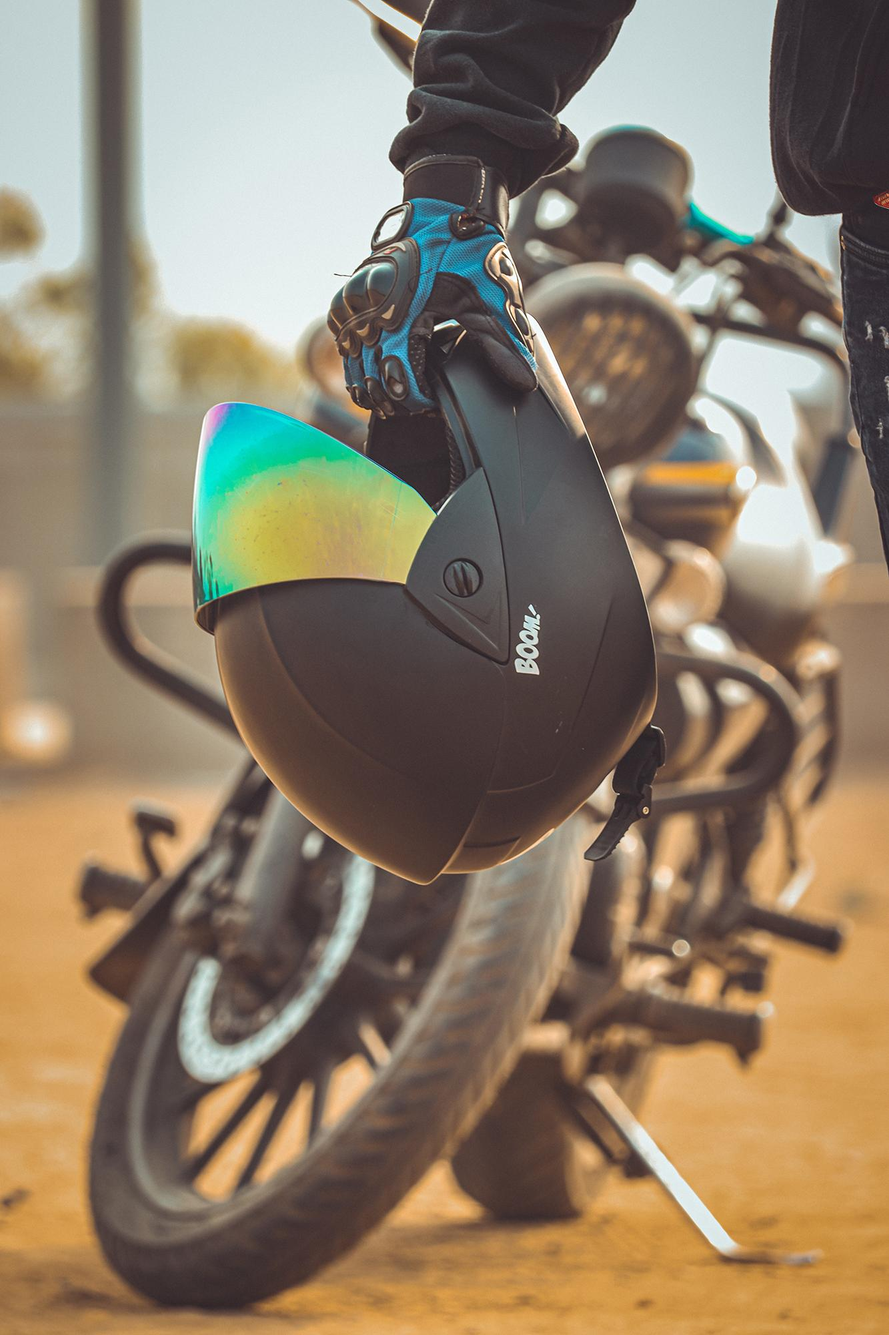helmet: (189, 297, 670, 889)
